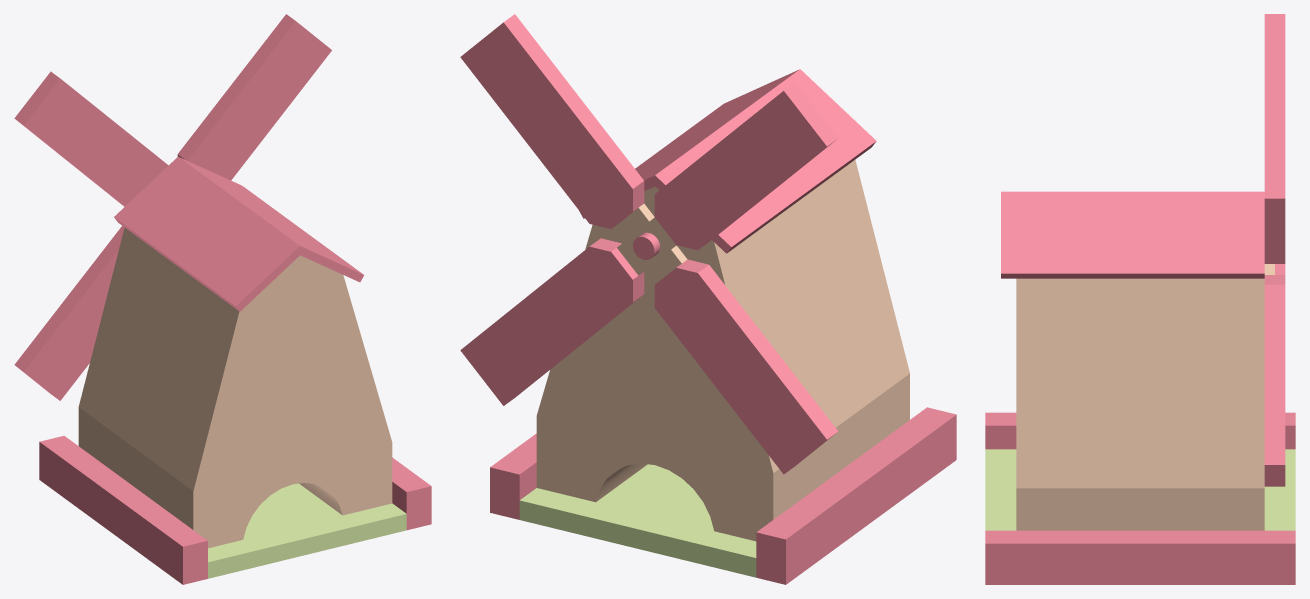
Rendered from windmill.fbx.
The picture shows the model from 3 angles, left to right: view 1: azimuth 30°, elevation 25°; view 2: azimuth 150°, elevation 25°; view 3: azimuth 270°, elevation 25°; orthographic projection. The views are drawn at different scales.
Visible parts, largest first — view 1: windmill; view 2: windmill; view 3: windmill.
Boxes of the visible parts, x1=… form: windmill: x1=14, y1=14, x2=431, y2=584; windmill: x1=460, y1=14, x2=956, y2=584; windmill: x1=985, y1=14, x2=1295, y2=584.
Size of the model in its own units: 124 by 158 by 99.99.
